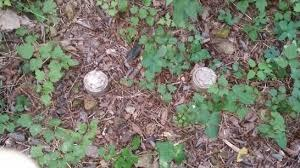pmn: (82, 69, 109, 96), (190, 66, 217, 93)
